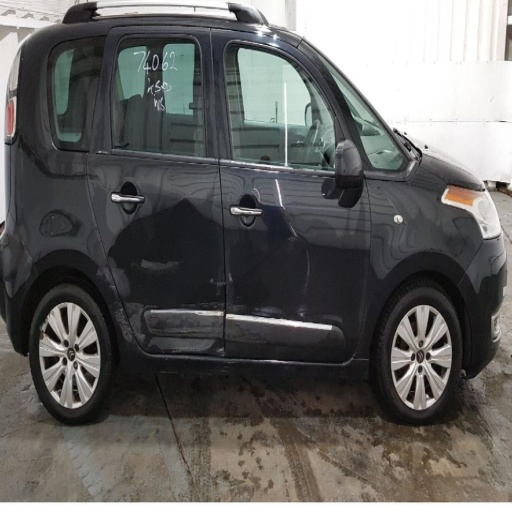dent: (108, 197, 224, 352), (229, 205, 310, 321), (5, 221, 31, 297)
scratch: (286, 215, 310, 319), (180, 262, 225, 311), (148, 337, 215, 353), (226, 270, 246, 315), (130, 259, 183, 271), (248, 306, 284, 318), (321, 315, 343, 326), (211, 365, 231, 372), (217, 346, 224, 356), (120, 321, 129, 326), (224, 361, 237, 364), (221, 370, 229, 373), (107, 285, 115, 288), (119, 308, 124, 311), (127, 328, 131, 331), (206, 374, 211, 376), (113, 311, 118, 313), (122, 319, 126, 321)
